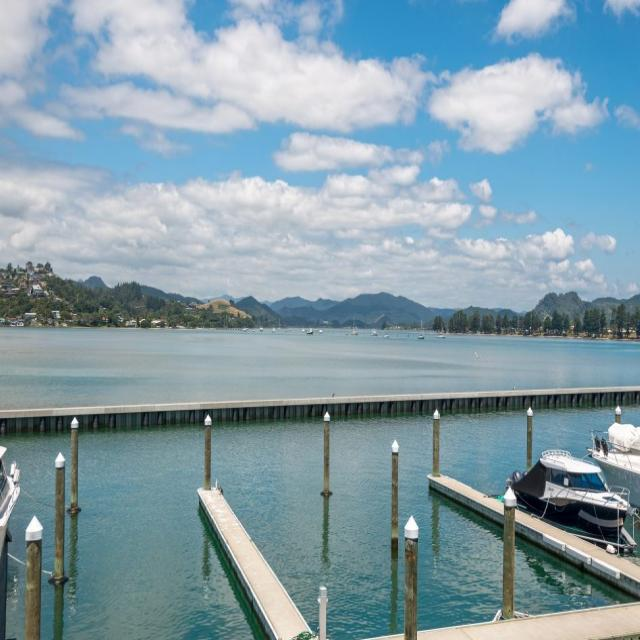houseboat: (498, 469, 640, 550)
